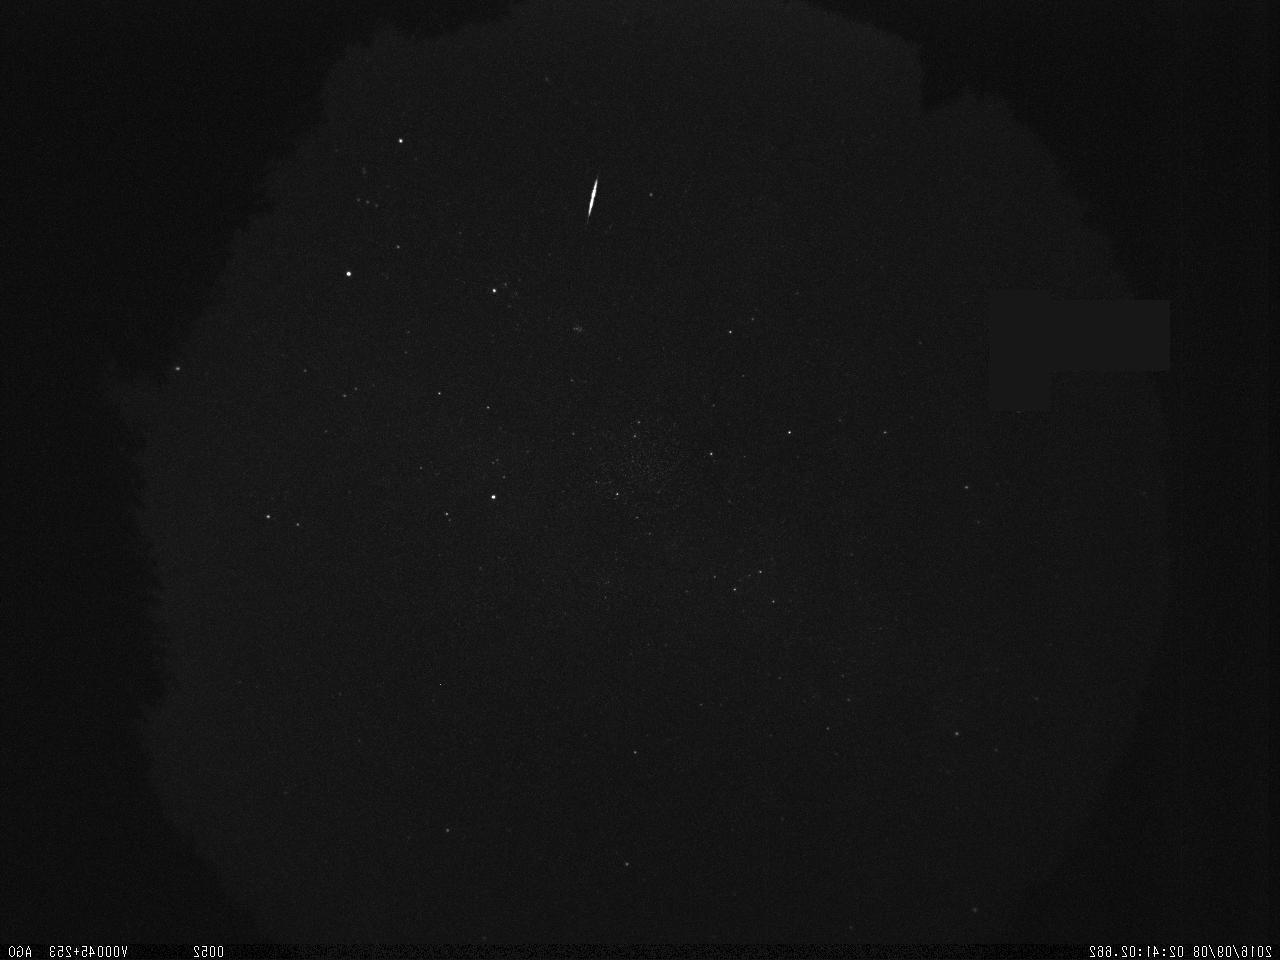meteor: (577, 168, 608, 228)
